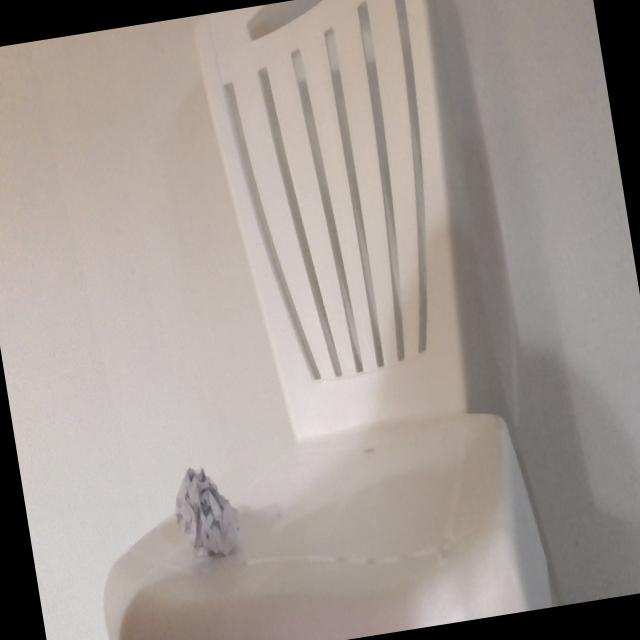crumpled_paper: (165, 454, 249, 572)
